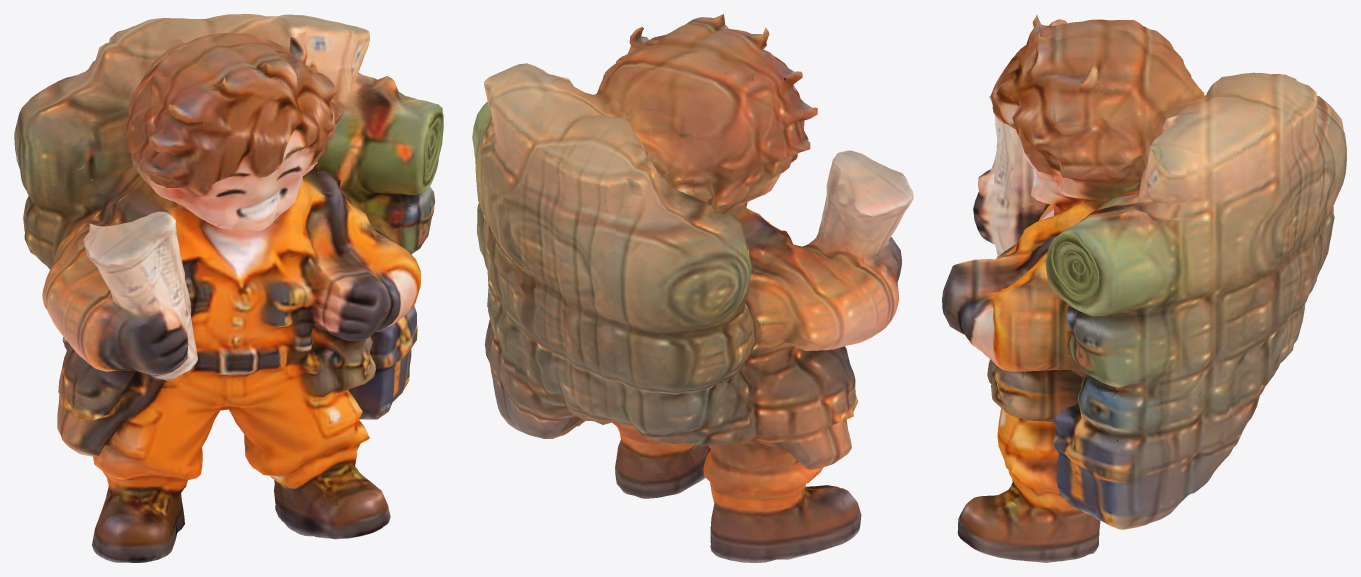
Rendered from atlas.glb.
3 renders of one model, left to right at view 1: azimuth 30°, elevation 25°; view 2: azimuth 150°, elevation 25°; view 3: azimuth 270°, elevation 25°, orthographic. The views are drawn at different scales.
Visible parts, largest first — view 1: world; view 2: world; view 3: world.
Boxes of the visible parts, left/top/right/bottom form: world: left=14, top=14, right=443, bottom=562; world: left=472, top=14, right=913, bottom=562; world: left=942, top=14, right=1346, bottom=562.
Bounding box in the file's own units: 0.7511 × 0.8854 × 0.6577.
Materials: 2 (2 with a texture image).
